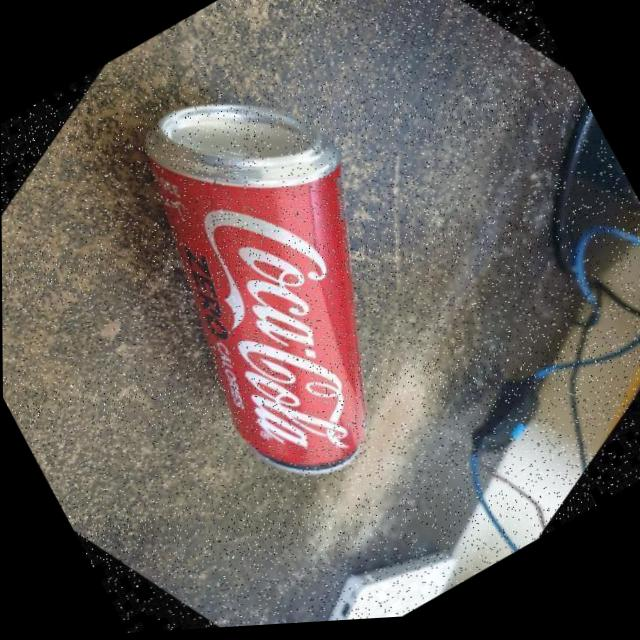metal: (79, 26, 479, 526)
